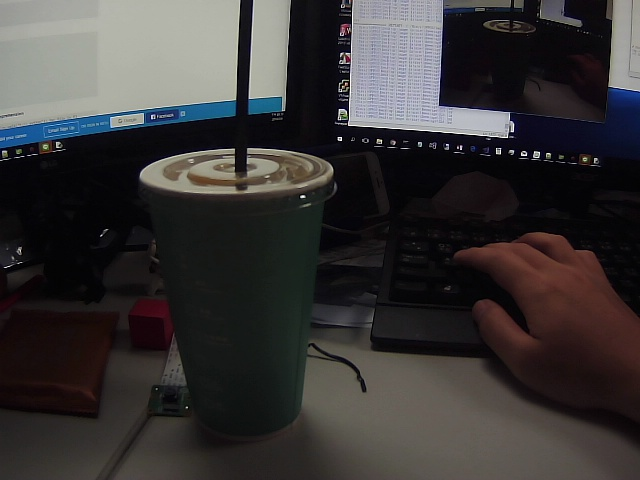beverage: (129, 1, 366, 445)
